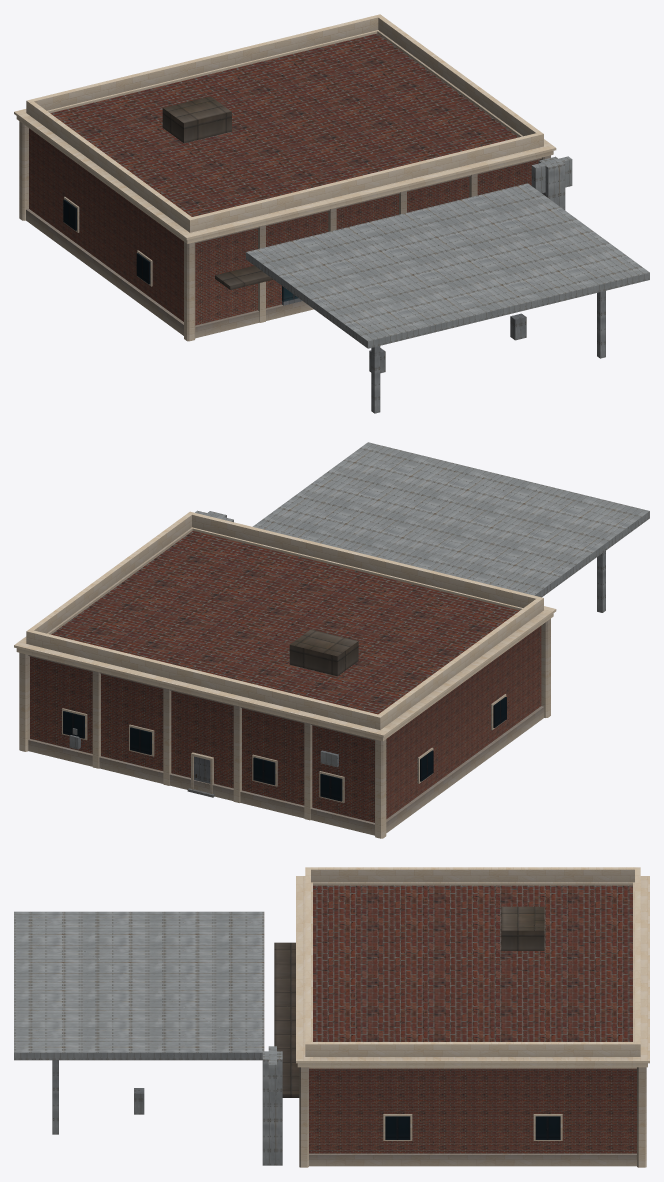
File: gas-station_lod0.gltf
The picture shows the model from 3 angles, top to bottom: view 1: azimuth 30°, elevation 25°; view 2: azimuth 150°, elevation 25°; view 3: azimuth 270°, elevation 25°; orthographic projection. The views are drawn at different scales.
Parts seen in each view (by area): view 1: gas-station_main, gas-station__canopy, gas-station__v4_stone_detail, gas-station__v4_metal_detail, gas-station__pylon, gas-station__pylon_cabinet, gas-station_fen_07-glass-curtain-blue_3_t, gas-station__canopy_post_a, gas-station__canopy_post_b; view 2: gas-station_main, gas-station__v4_stone_detail, gas-station__canopy, gas-station_fen_07-glass-curtain-blue_3_t, gas-station__v4_metal_detail, gas-station_fen_04-limestone_2, gas-station_fen_14-steel-panel_0; view 3: gas-station_main, gas-station__canopy, gas-station__v4_stone_detail, gas-station__v4_metal_detail, gas-station__pylon, gas-station_fen_07-glass-curtain-blue_3_t, gas-station__canopy_post_b, gas-station_fen_04-limestone_2.
Boxes of the visible parts, <box> form: gas-station_main: <box>29,33,540,325</box>; gas-station__canopy: <box>246,183,649,348</box>; gas-station__v4_stone_detail: <box>14,14,556,341</box>; gas-station__v4_metal_detail: <box>162,96,272,289</box>; gas-station__pylon: <box>538,156,565,210</box>; gas-station__pylon_cabinet: <box>531,156,572,193</box>; gas-station_fen_07-glass-curtain-blue_3_t: <box>63,199,150,284</box>; gas-station__canopy_post_a: <box>371,346,380,413</box>; gas-station__canopy_post_b: <box>597,291,605,358</box>; gas-station_main: <box>30,531,541,822</box>; gas-station__v4_stone_detail: <box>14,511,556,838</box>; gas-station__canopy: <box>252,442,649,597</box>; gas-station_fen_07-glass-curtain-blue_3_t: <box>63,697,506,801</box>; gas-station__v4_metal_detail: <box>289,629,358,676</box>; gas-station_fen_04-limestone_2: <box>62,694,506,802</box>; gas-station_fen_14-steel-panel_0: <box>69,728,338,783</box>; gas-station_main: <box>309,885,636,1153</box>; gas-station__canopy: <box>14,911,264,1060</box>; gas-station__v4_stone_detail: <box>296,867,649,1167</box>; gas-station__v4_metal_detail: <box>274,906,544,1097</box>; gas-station__pylon: <box>262,1051,282,1165</box>; gas-station_fen_07-glass-curtain-blue_3_t: <box>385,1116,560,1139</box>; gas-station__canopy_post_b: <box>52,1060,58,1134</box>; gas-station_fen_04-limestone_2: <box>383,1114,562,1140</box>.
Size of the model in its own units: 26.41 by 8.35 by 38.11.
